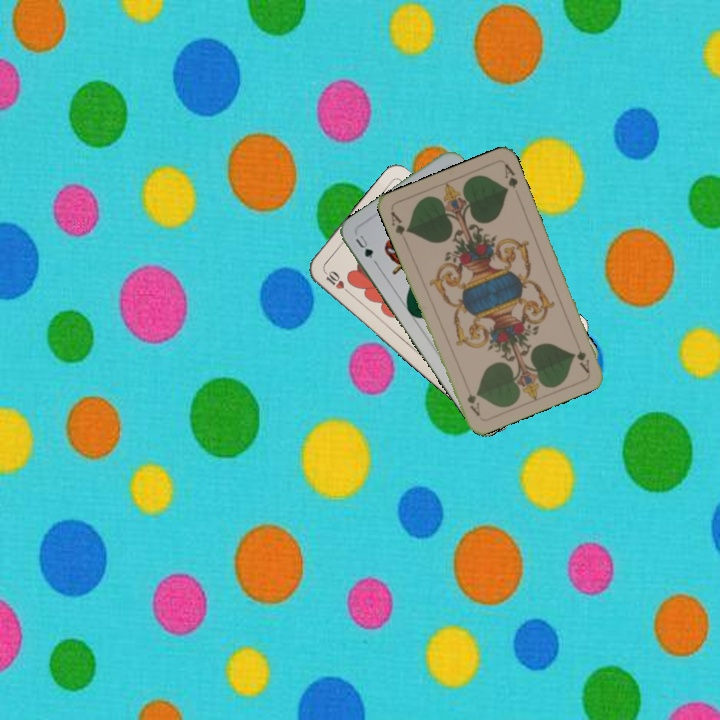GA: (387, 207, 412, 245), (572, 346, 592, 375)
GU: (351, 230, 376, 261)
H10: (319, 266, 353, 297)
